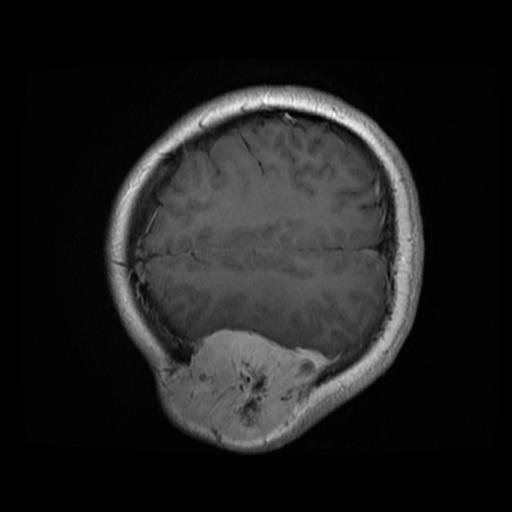meningioma: (168, 329, 330, 438)
